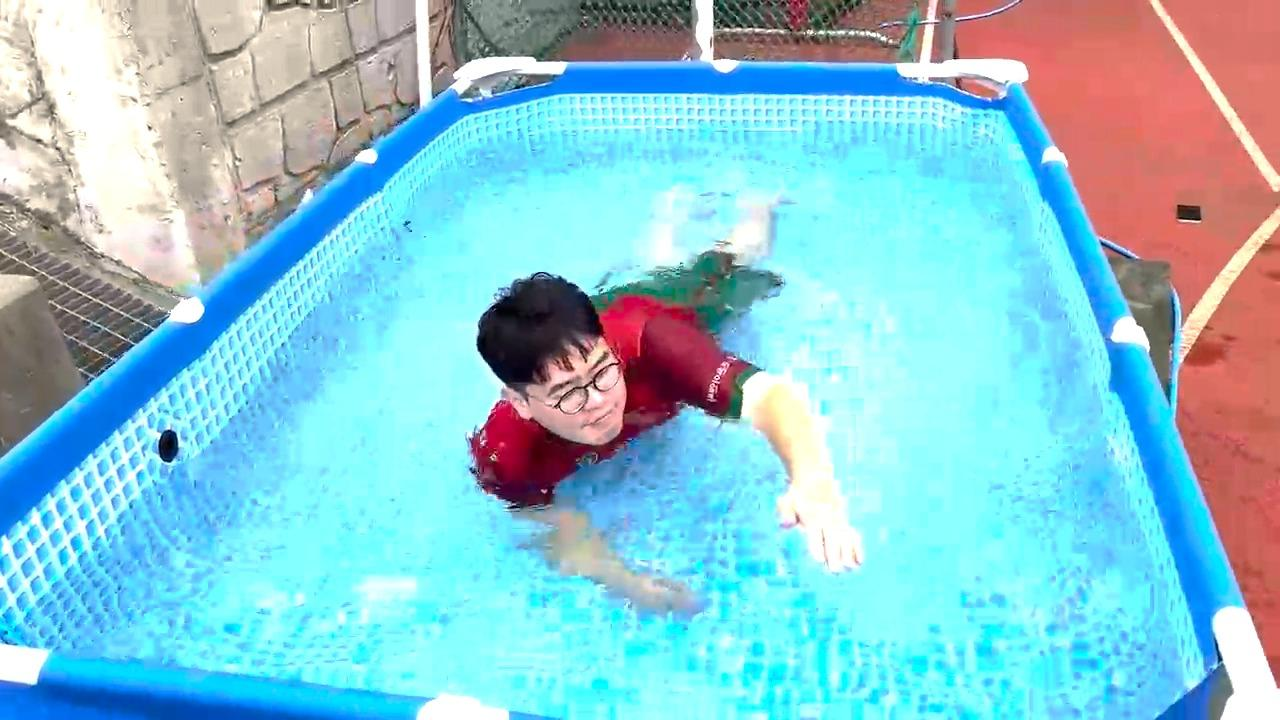Swimming: (416, 145, 925, 605)
